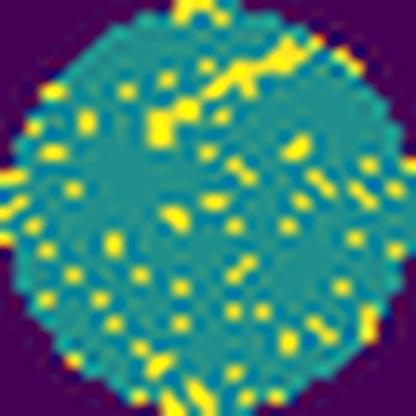Scratch: (141, 29, 321, 149)
